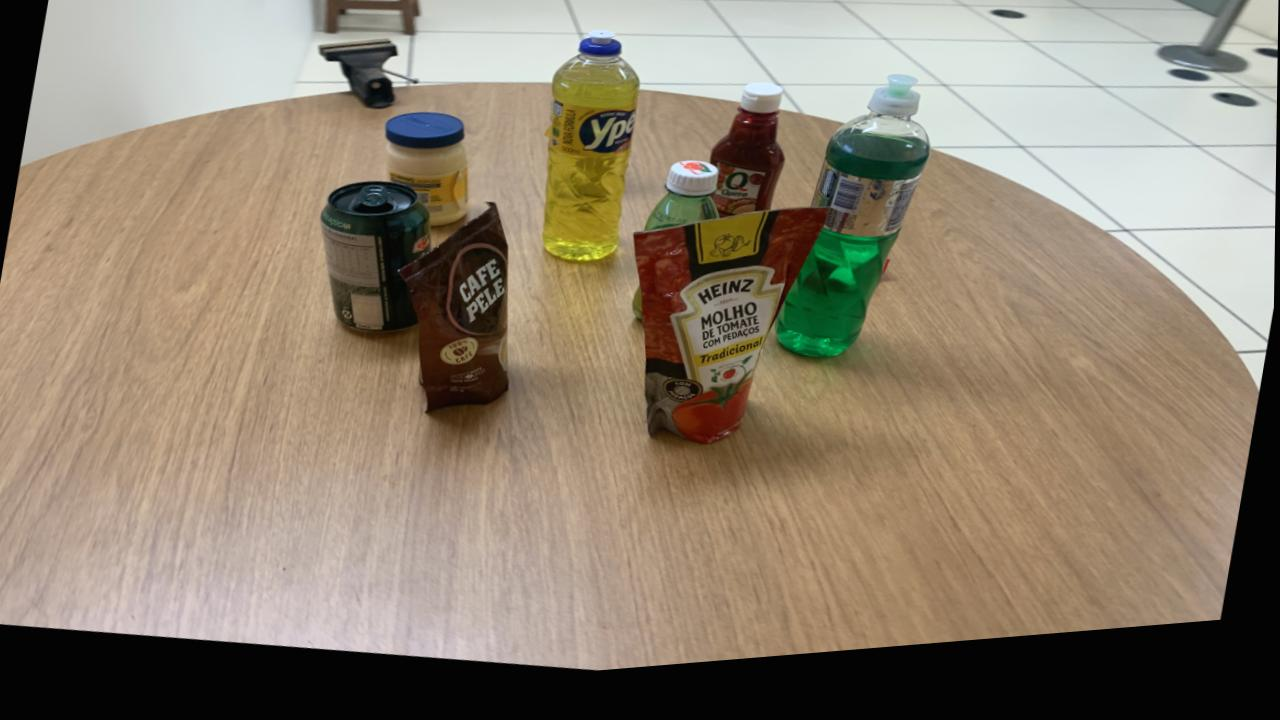Coffee-Pantry_Items: (400, 210, 511, 418)
Detergent-Cleanup_Items: (777, 89, 932, 371), (543, 40, 641, 271)
Guarana-Drinks: (644, 172, 720, 242), (633, 302, 644, 329)
Guarana_Can-Drinks: (320, 187, 432, 339)
Ketchup-Pantry_Items: (710, 95, 786, 230)
Mayonnaise-Pantry_Items: (385, 119, 470, 233)
Tomato_Sauce-Pantry_Items: (634, 221, 827, 455)
